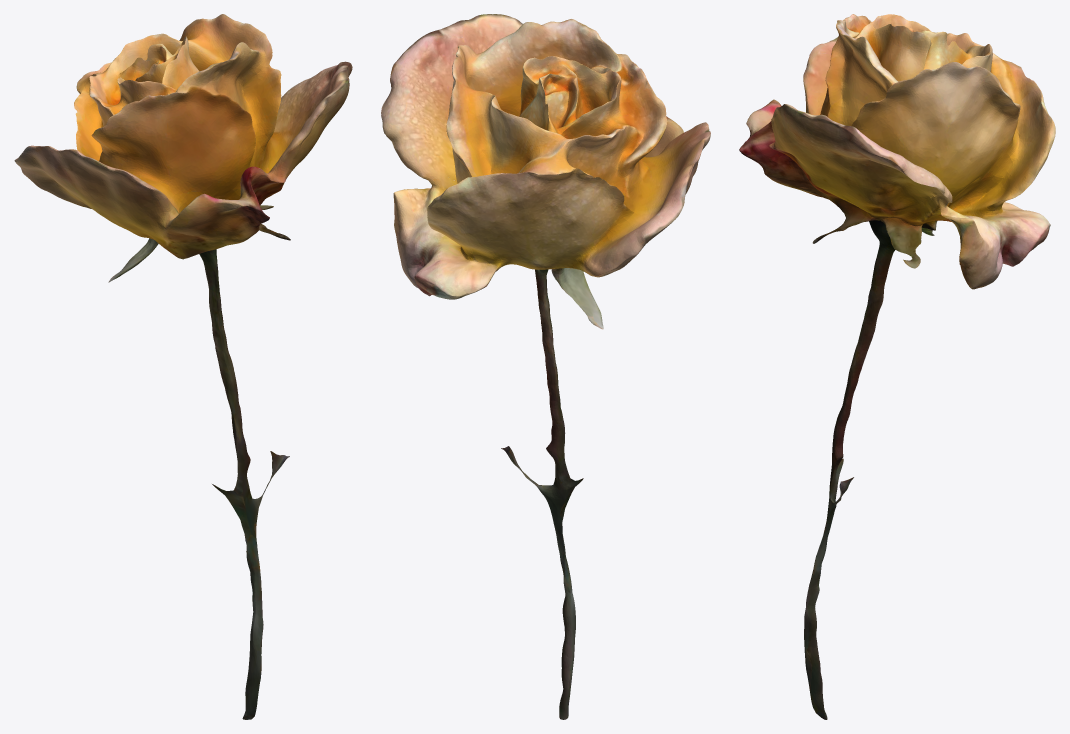
Rendered from rose.glb.
3 views of the same model, side by side, from view 1: azimuth 30°, elevation 25°; view 2: azimuth 150°, elevation 25°; view 3: azimuth 270°, elevation 25° (orthographic). The views are drawn at different scales.
Bounding box in the file's own units: 0.6637 × 1.41 × 0.5869.
Materials: 1 (1 with a texture image).
